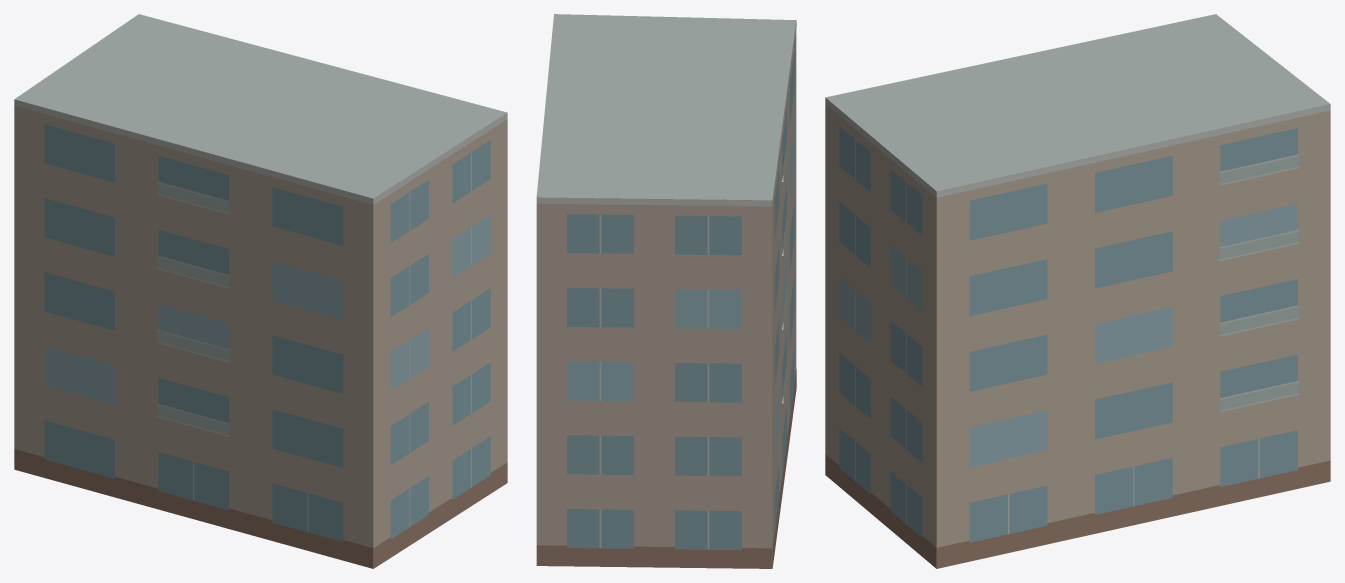
Rendered from survey-upis-32941068.glb.
The picture shows the model from 3 angles, left to right: view 1: azimuth 30°, elevation 25°; view 2: azimuth 150°, elevation 25°; view 3: azimuth 270°, elevation 25°; orthographic projection. The views are drawn at different scales.
Visible parts, largest first — view 1: survey-upis-32941068.tmp; view 2: survey-upis-32941068.tmp; view 3: survey-upis-32941068.tmp.
Part boxes in pixels (x1=…): survey-upis-32941068.tmp: x1=14, y1=14, x2=507, y2=568; survey-upis-32941068.tmp: x1=536, y1=14, x2=796, y2=568; survey-upis-32941068.tmp: x1=825, y1=14, x2=1330, y2=568.
Bounding box in the file's own units: 14.42 × 14.3 × 17.36.
